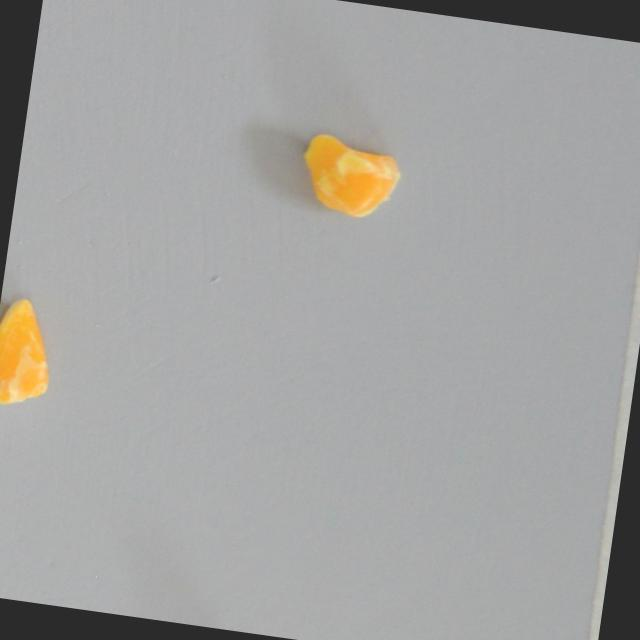pelicula: (295, 130, 404, 223), (0, 292, 59, 412)
